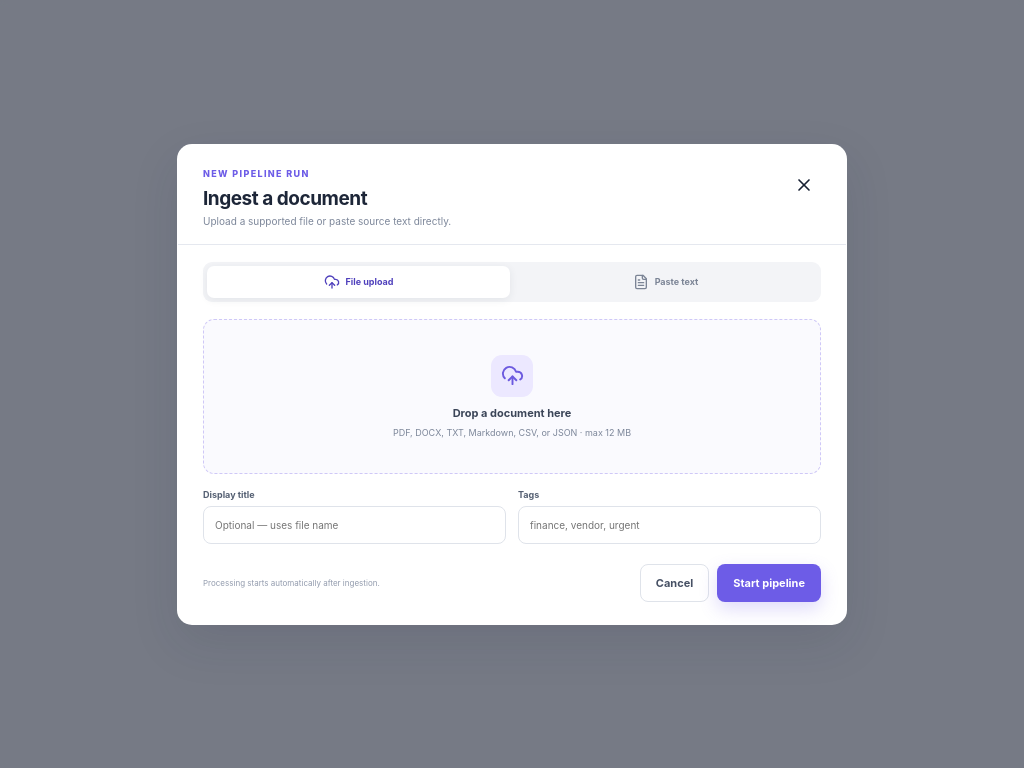
it: workspace components › switches between upload and pasted text ingestion
Click the button "Paste text" at (666, 282), box [514, 266, 817, 298]
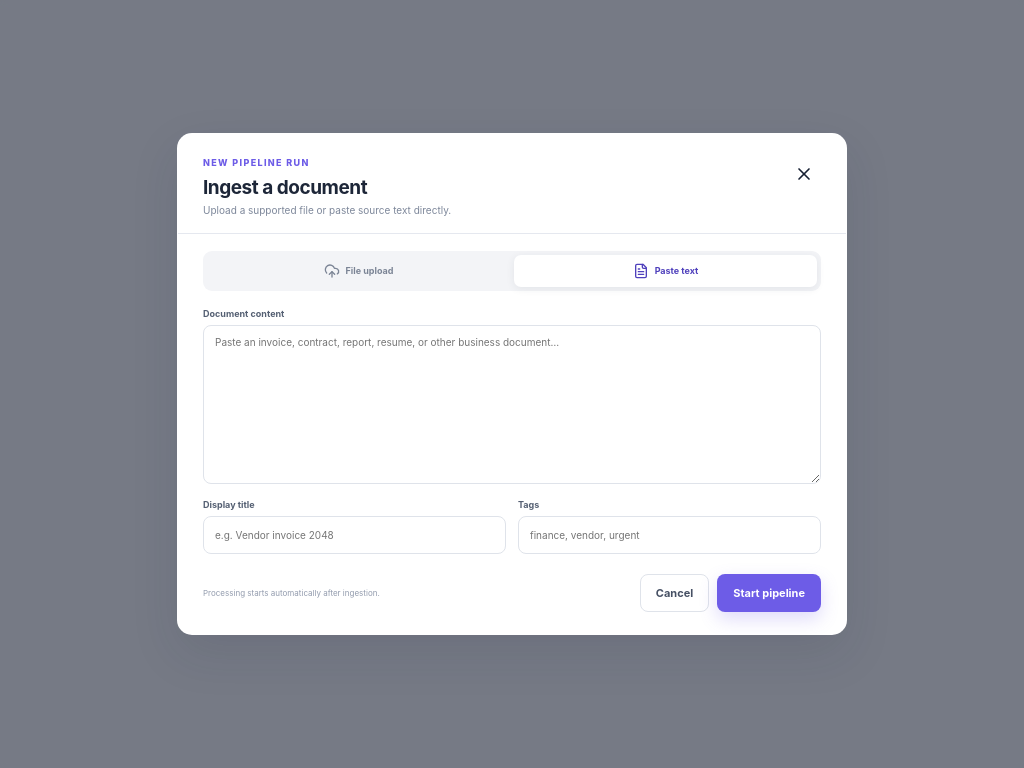
Check: the text box with placeholder "Paste an invoice" is shown, box [203, 325, 821, 484]
